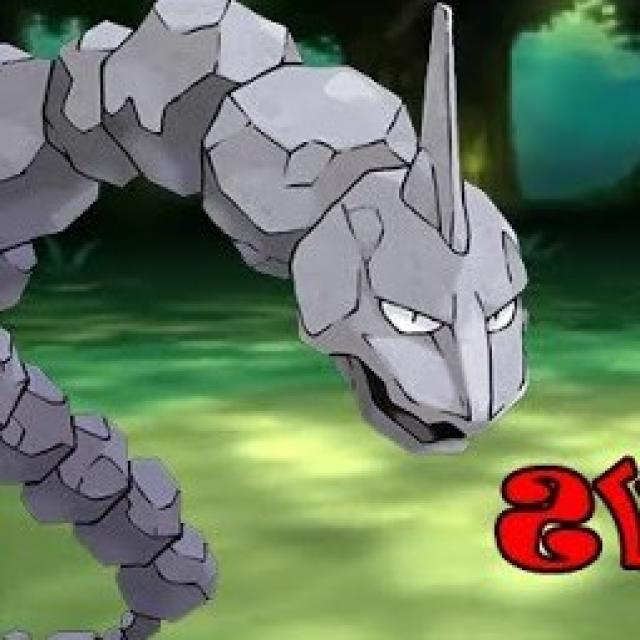Onix: (1, 0, 527, 470)
